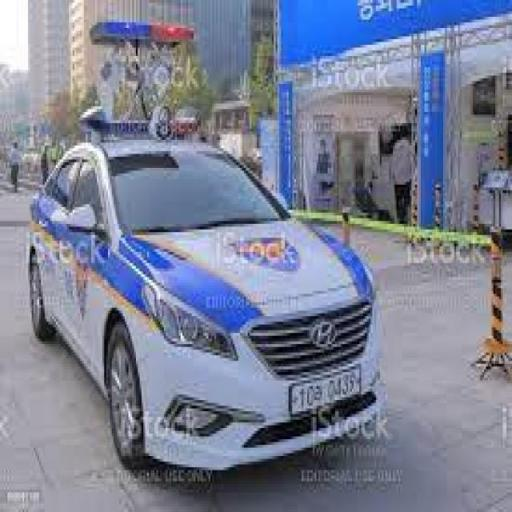Ambulance: (24, 109, 386, 484)
